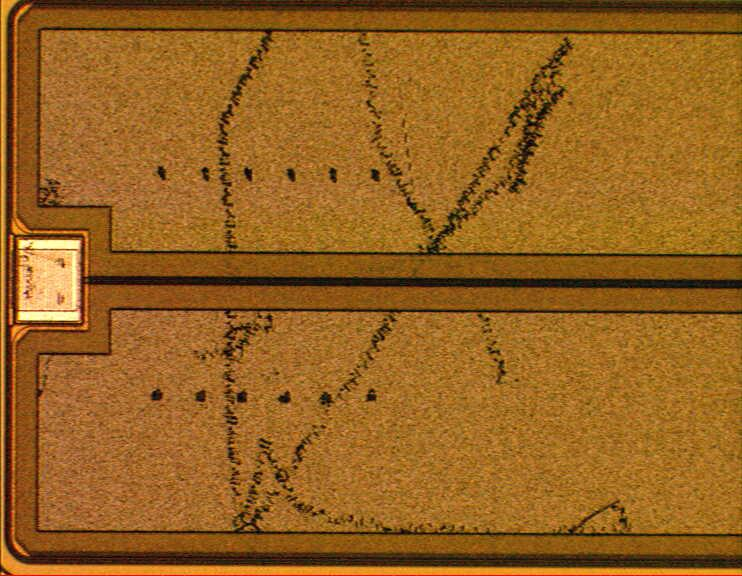SCRATCH: (8, 12, 658, 575)
